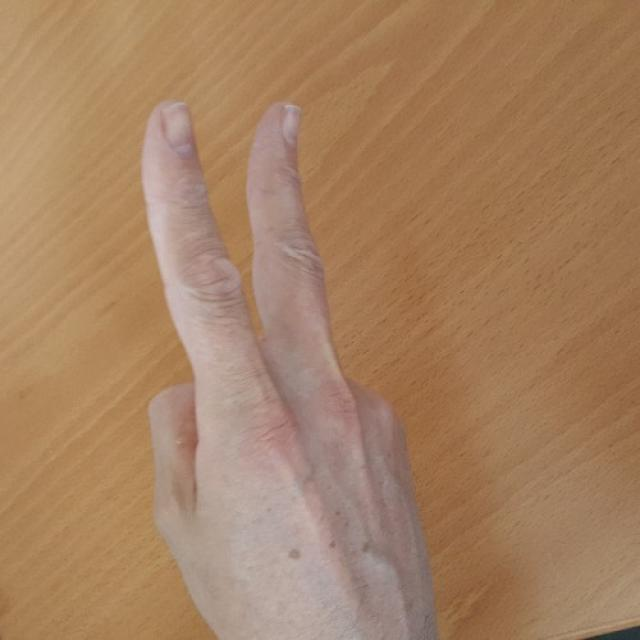scissors: (146, 97, 434, 594)
